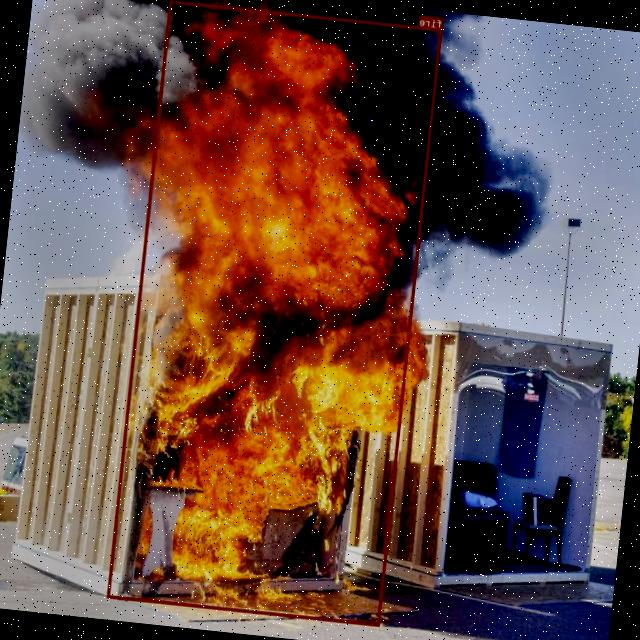fire: (107, 0, 442, 625)
